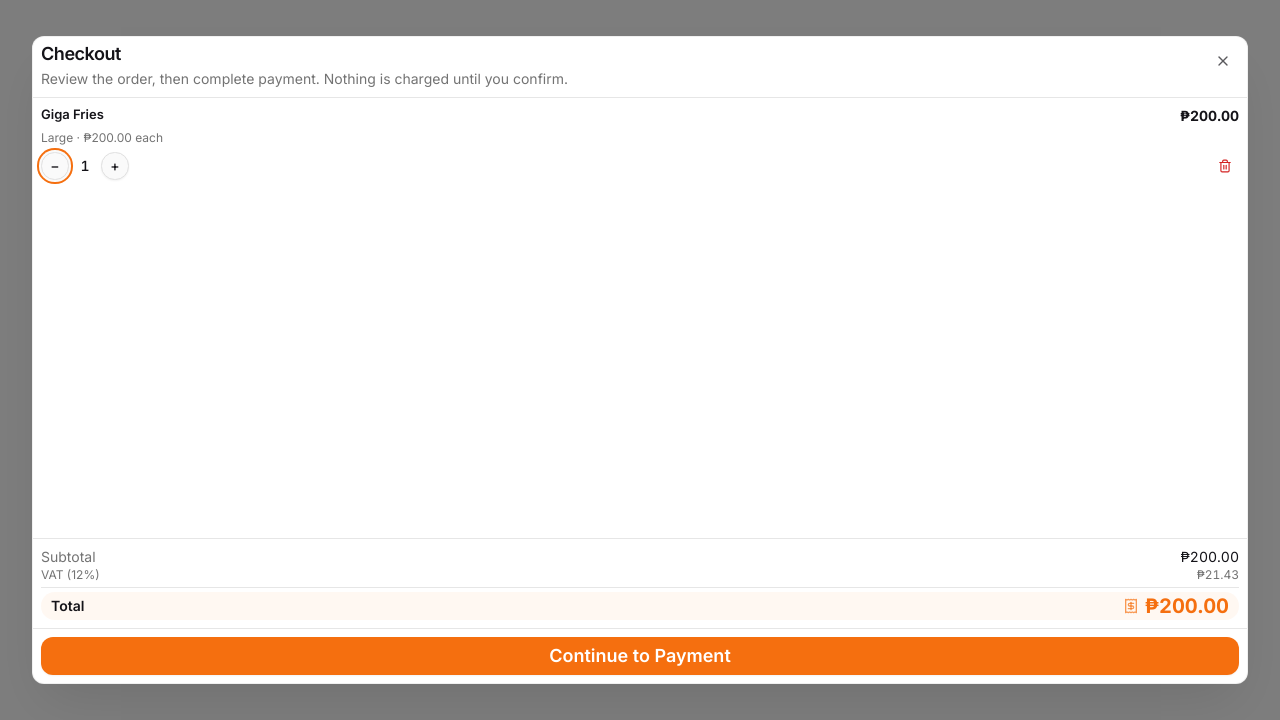
CheckoutWorkspace — stepped layout (Task 209.25, mobile/tablet portrait) › Payment step shows only fields (no proof cards, no Charge button); cash + no discount confirms directly from Payment, no separate Proof step
Click the button "Continue to Payment": (640, 656) 41,637 -> 1239,675
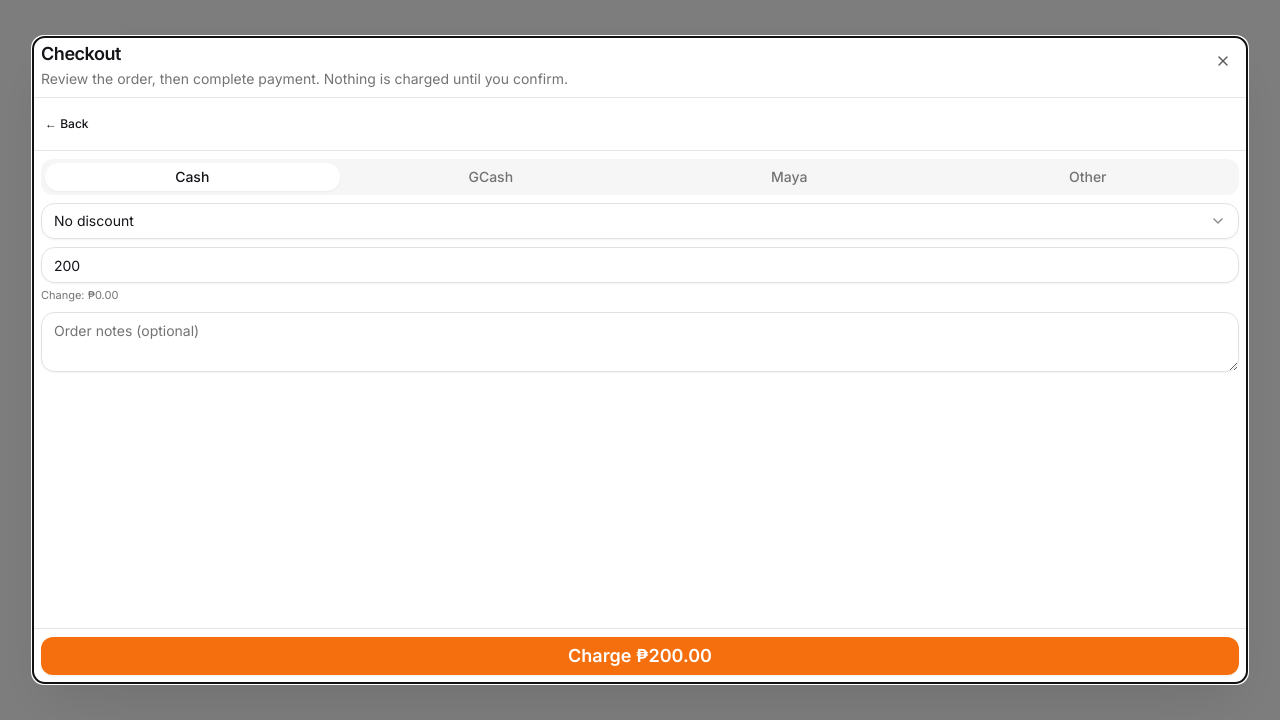
Expected: the element showing "Cash GCash Maya Other" is shown, 41,159 -> 1239,195
Expected: the button "Continue" is gone
Expected: the button "Charge ₱200.00" is shown, 41,637 -> 1239,675
